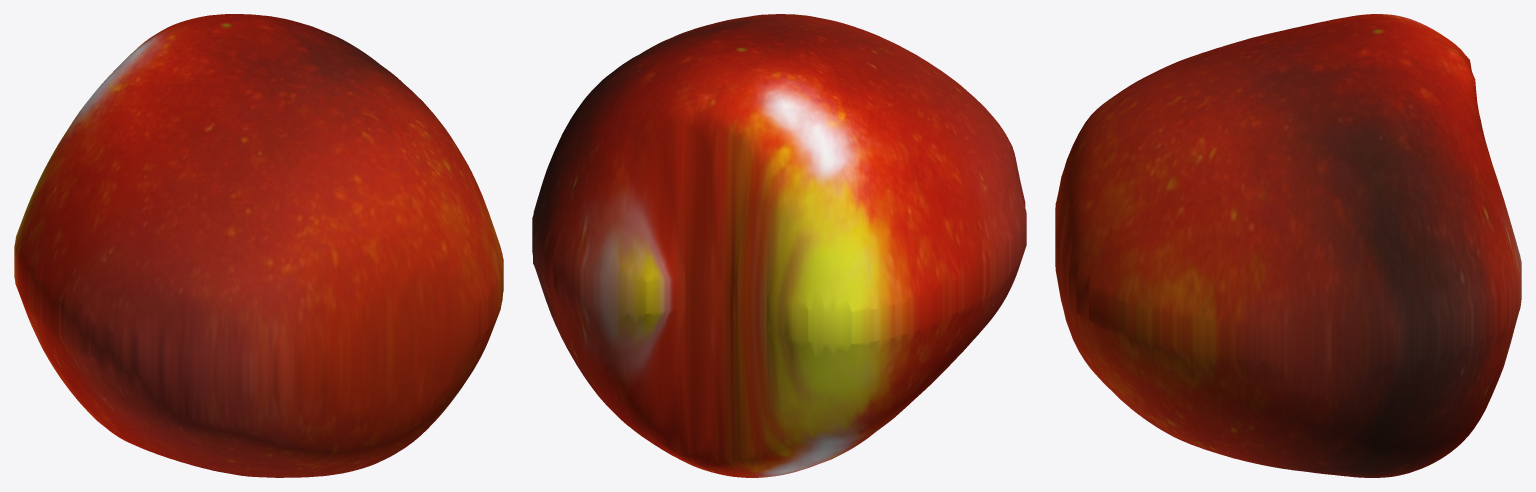
Rendered from apple_2_2.obj.
The picture shows the model from 3 angles, left to right: view 1: azimuth 30°, elevation 25°; view 2: azimuth 150°, elevation 25°; view 3: azimuth 270°, elevation 25°; orthographic projection. The views are drawn at different scales.
Parts seen in each view (by area): view 1: Grid; view 2: Grid; view 3: Grid.
Part boxes in pixels (left/top/right/bottom): Grid: left=14, top=14, right=503, bottom=477; Grid: left=532, top=14, right=1026, bottom=477; Grid: left=1055, top=14, right=1521, bottom=477.
Bounding box in the file's own units: 1.62 × 1.59 × 1.57.
1 material, 1 textured.
